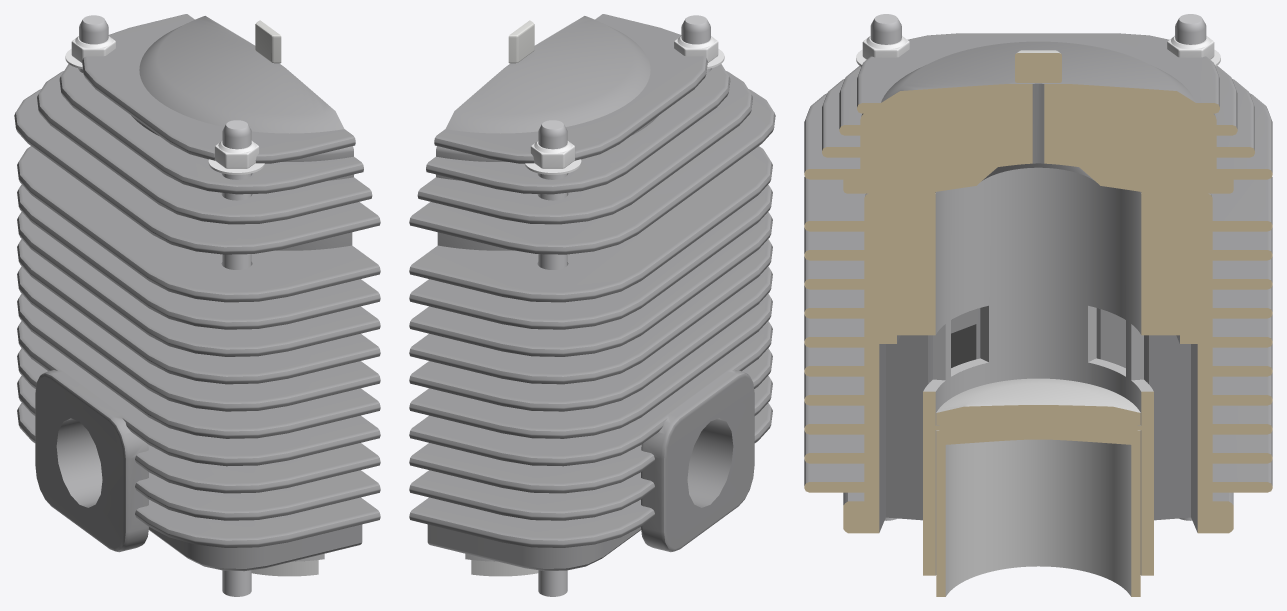
Rendered from port_tr.glb.
The picture shows the model from 3 angles, left to right: view 1: azimuth 30°, elevation 25°; view 2: azimuth 150°, elevation 25°; view 3: azimuth 270°, elevation 25°; orthographic projection. The views are drawn at different scales.
Visible parts, largest first — view 1: port_tr__barrel, port_tr__head, port_tr__studs, port_tr__head_nuts, port_tr__spark_plug, port_tr__piston; view 2: port_tr__barrel, port_tr__head, port_tr__studs, port_tr__head_nuts, port_tr__spark_plug, port_tr__piston; view 3: port_tr__barrel, port_tr__head, port_tr__liner, port_tr__piston, port_tr__studs, port_tr__head_nuts, port_tr__spark_plug.
Part boxes in pixels (box(x1,y1,x2,y2)): port_tr__barrel: box(17, 146, 380, 571); port_tr__head: box(14, 14, 380, 254); port_tr__studs: box(79, 15, 251, 596); port_tr__head_nuts: box(65, 36, 265, 174); port_tr__spark_plug: box(255, 20, 281, 63); port_tr__piston: box(251, 560, 318, 576); port_tr__barrel: box(409, 146, 772, 571); port_tr__head: box(409, 14, 775, 254); port_tr__studs: box(538, 15, 710, 596); port_tr__head_nuts: box(524, 36, 724, 174); port_tr__spark_plug: box(508, 20, 534, 63); port_tr__piston: box(471, 560, 538, 576); port_tr__barrel: box(804, 176, 1272, 533); port_tr__head: box(804, 33, 1272, 193); port_tr__liner: box(923, 167, 1153, 575); port_tr__piston: box(935, 378, 1141, 596); port_tr__studs: box(870, 14, 1206, 520); port_tr__head_nuts: box(856, 36, 1220, 66); port_tr__spark_plug: box(1015, 50, 1061, 82).
Size of the model in its own units: 6 by 15.37 by 12.
